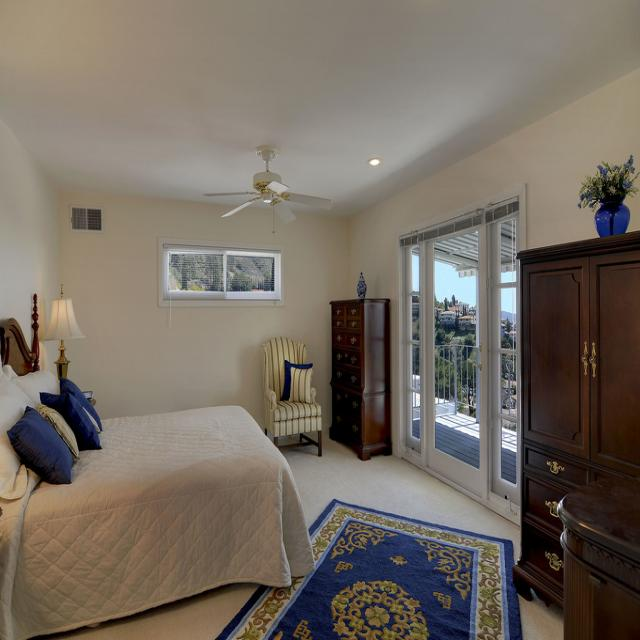Bulb: (205, 152, 342, 250)
